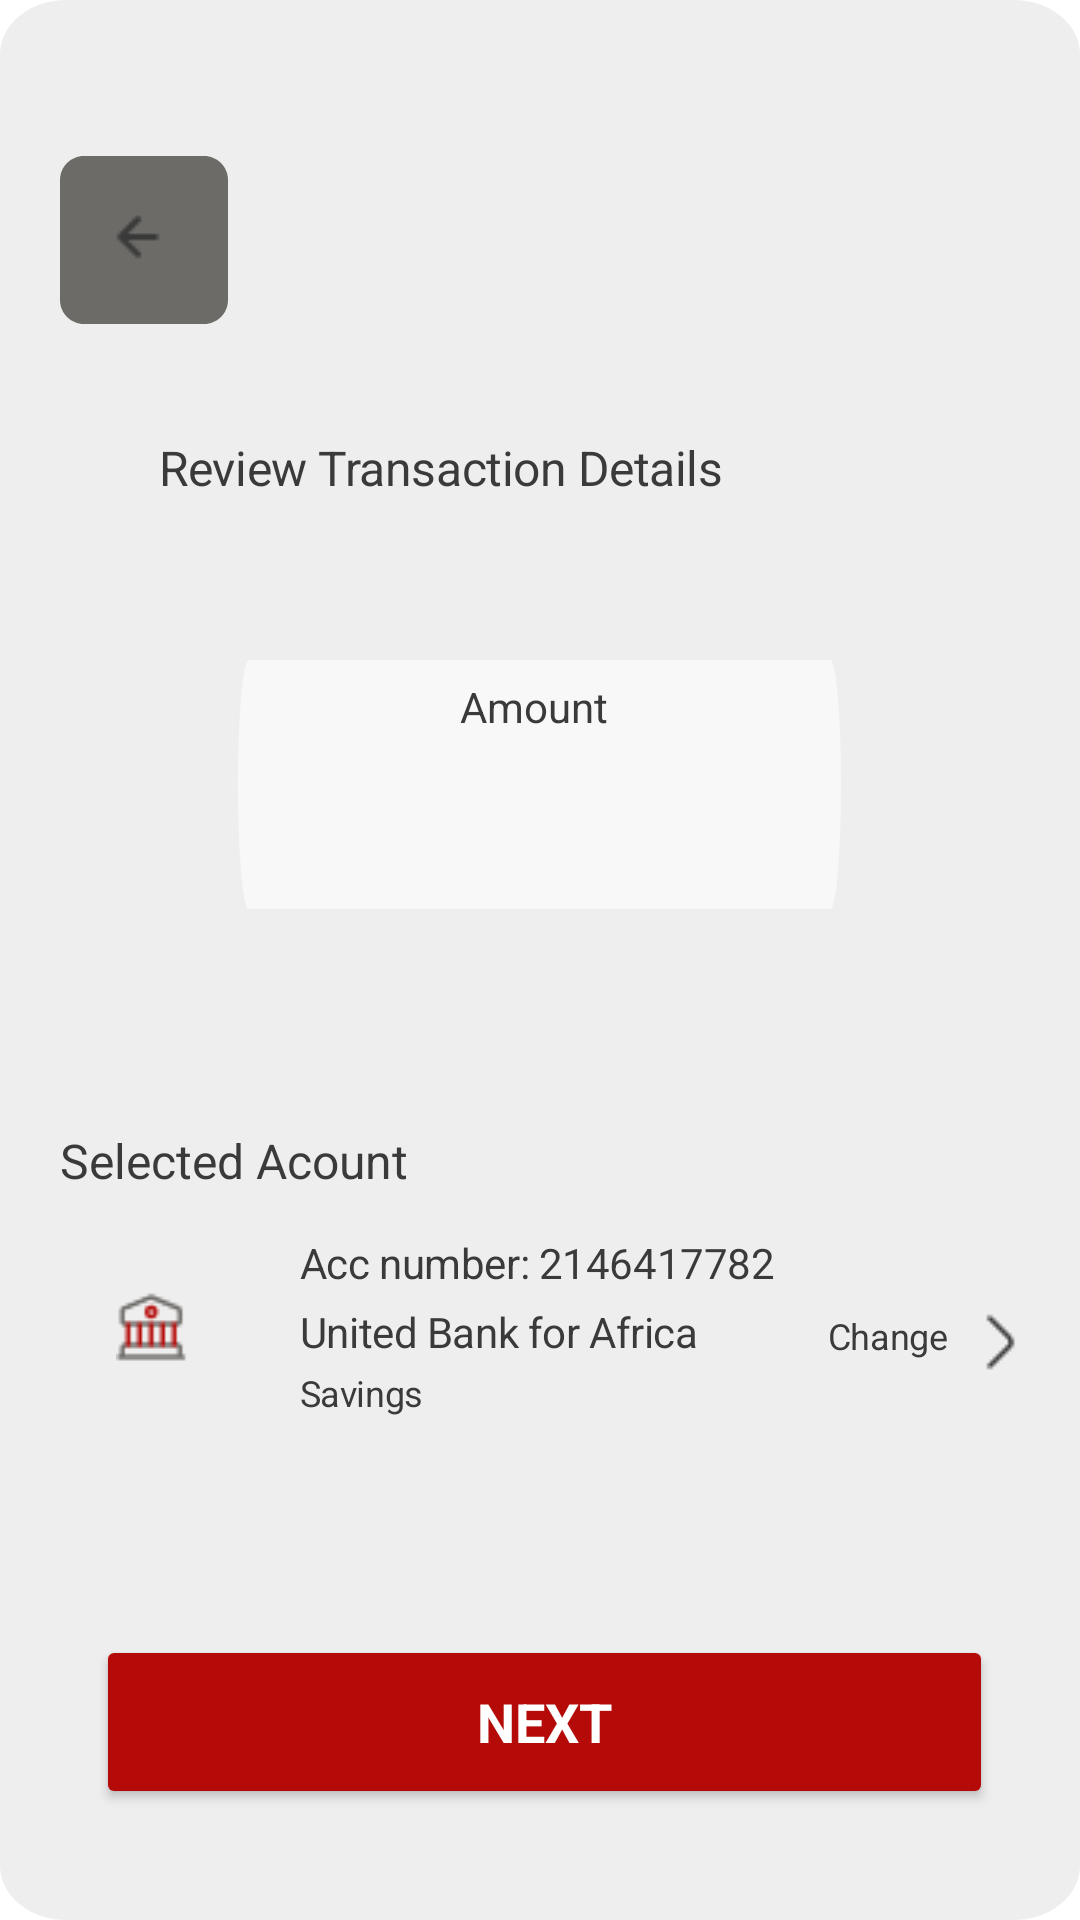

Named icons in this screenshot (1080 × 1920) and their centers, (x=x, y=y):
arrow right: (x=1000, y=1342)
Back icon: (x=138, y=237)
